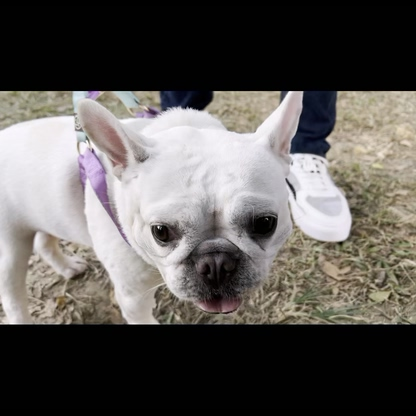bulldog: (1, 92, 304, 322)
